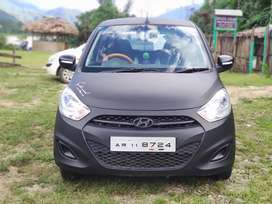AR118724: (110, 136, 176, 151)
